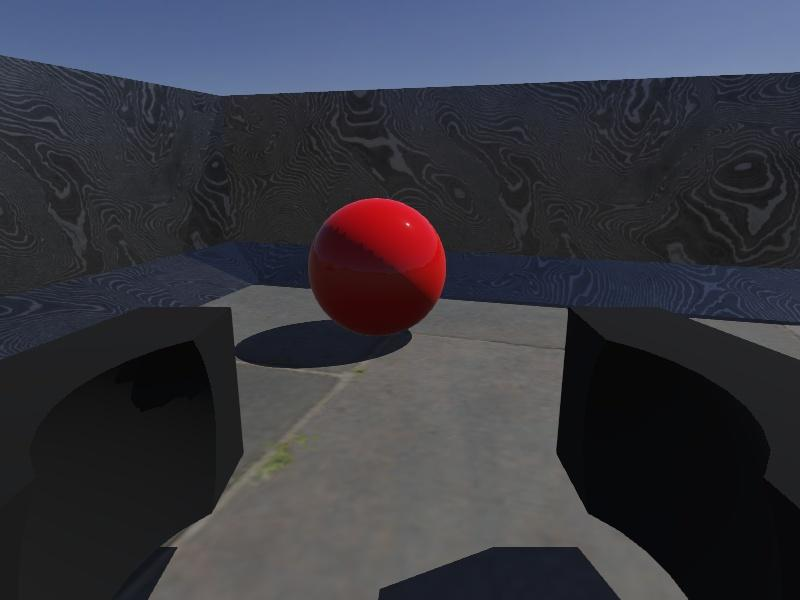red ball: (308, 196, 448, 338)
